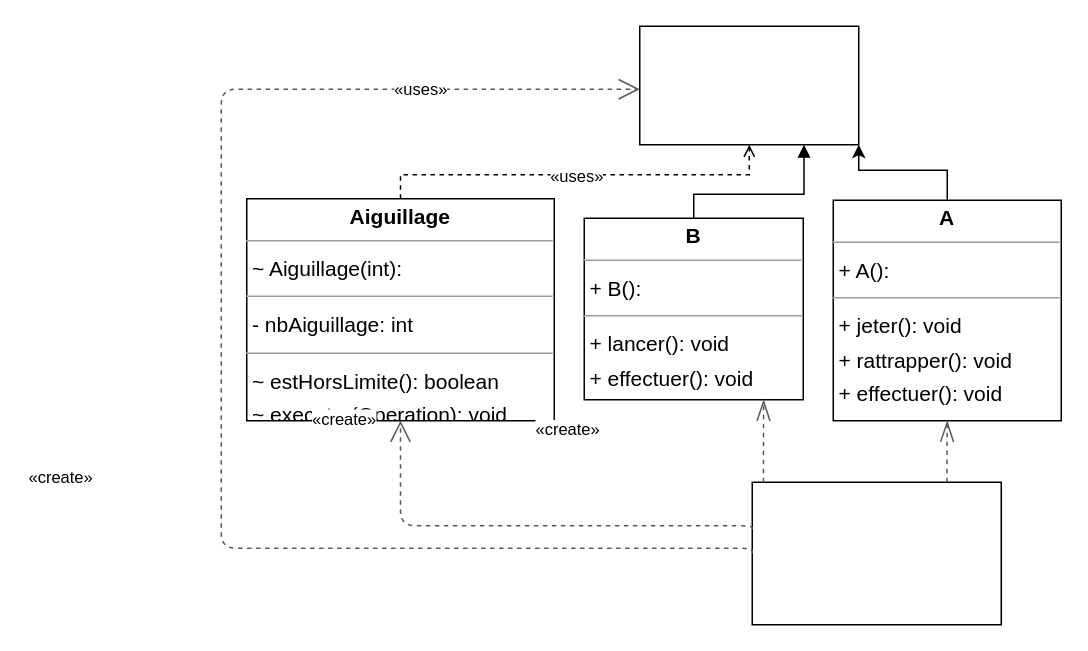
Image size: 1088x651. Some labels were removed from this diagram. Here are the shapes that lost their labels. From the top down, the centre of each, then its label:
the point at 748,85: <<interface>> Operation + effectuer(): void
the point at 876,553: TestAiguillage + TestAiguillage(): + main(String[]): void
